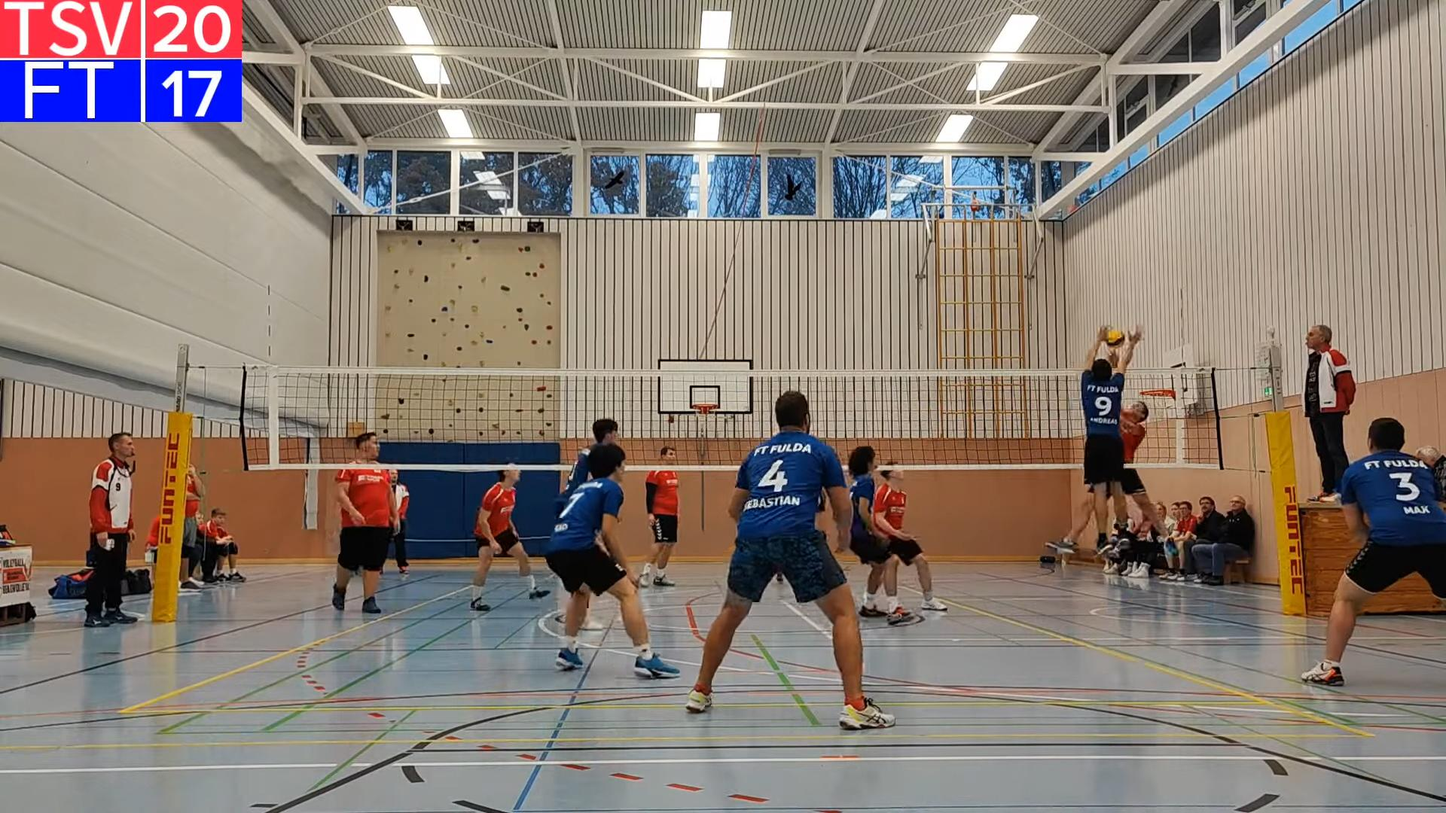Attack: (1066, 389, 1186, 558)
Block: (1079, 323, 1146, 558)
Player: (686, 391, 894, 729), (1301, 418, 1445, 685), (546, 445, 679, 678), (848, 446, 918, 625), (331, 432, 397, 614), (470, 467, 550, 611), (874, 463, 946, 611), (554, 418, 618, 512), (639, 470, 678, 586), (390, 470, 409, 574)
ball: (1099, 323, 1130, 349)
